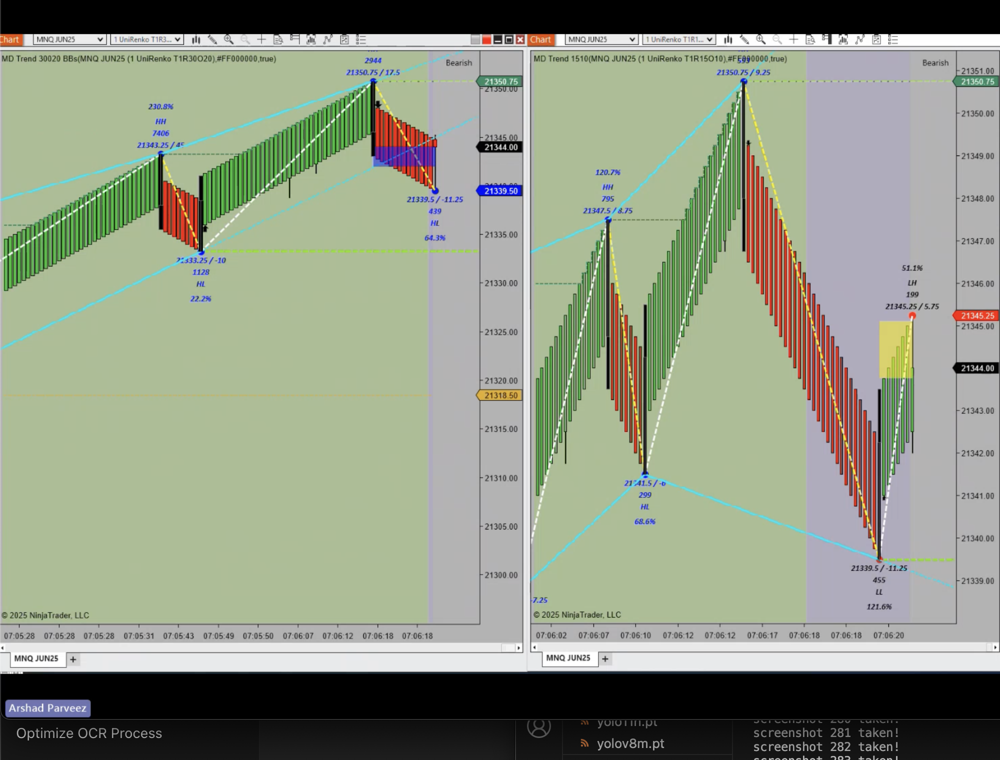HH: (148, 109, 176, 130), (599, 176, 622, 193)
HL: (634, 499, 663, 519), (189, 277, 216, 296), (424, 216, 448, 231)
LH: (902, 275, 928, 291)
LL: (869, 582, 891, 602)
